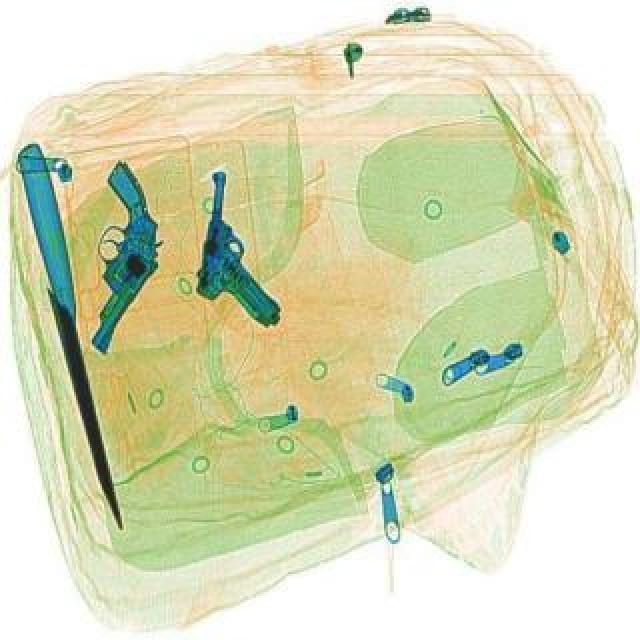gun: (36, 162, 196, 358), (190, 178, 306, 332)
knife: (18, 146, 134, 534)
